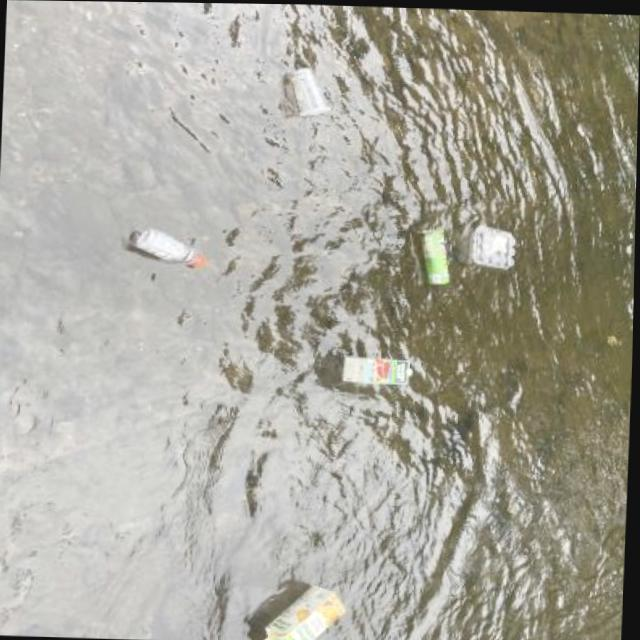Can-Metal: (410, 222, 458, 287)
Cardboard: (258, 579, 354, 640), (338, 350, 418, 388)
Plastic: (127, 224, 211, 270), (463, 218, 520, 272), (283, 62, 335, 121)
